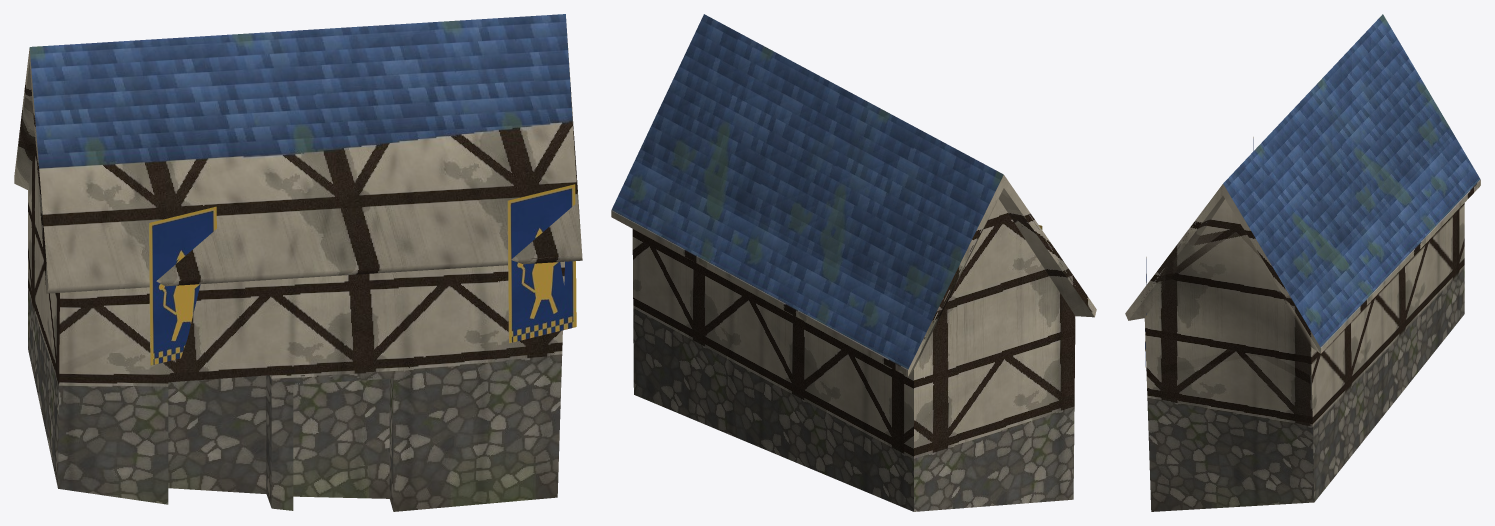
File: house_08_card.glb
3 renders of one model, left to right at view 1: azimuth 30°, elevation 25°; view 2: azimuth 150°, elevation 25°; view 3: azimuth 270°, elevation 25°, orthographic. The views are drawn at different scales.
Visible parts, largest first — view 1: house_08_game_card; view 2: house_08_game_card; view 3: house_08_game_card.
Part boxes in pixels (x1,y1,x2,y2): house_08_game_card: (14,14,582,511); house_08_game_card: (611,14,1096,511); house_08_game_card: (1125,14,1480,511).
Bounding box in the file's own units: 10.77 × 8.64 × 7.98.
1 material, 1 textured.
